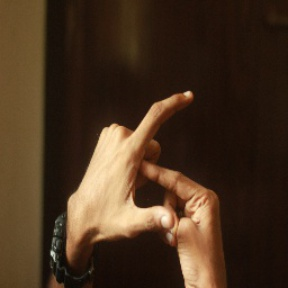E: (122, 87, 202, 234)
